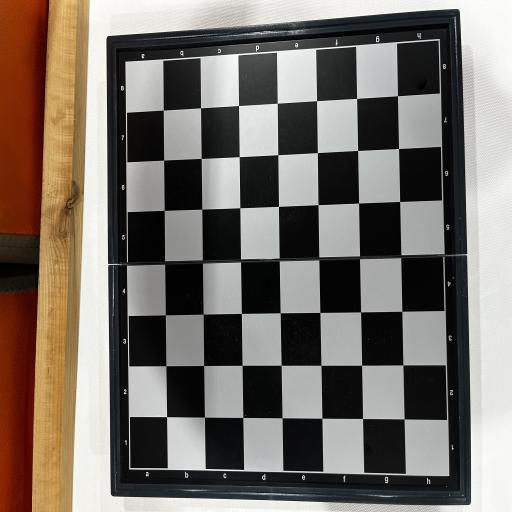Board: (106, 8, 471, 506)
